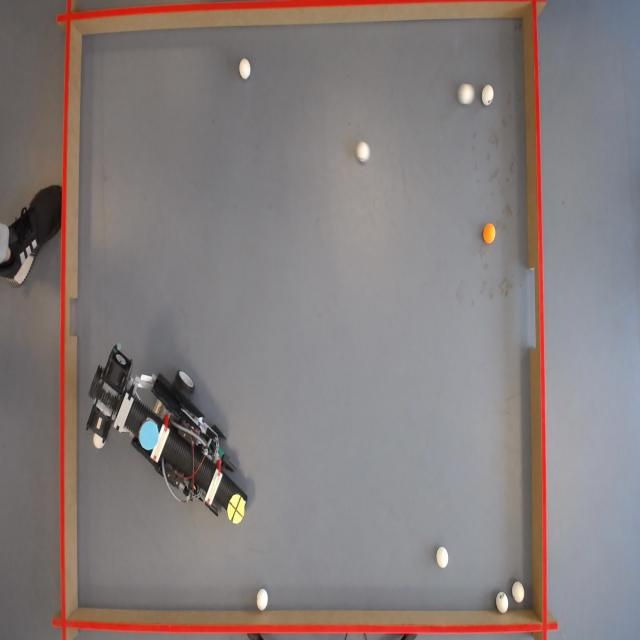orange: (484, 224, 498, 246)
robot: (93, 351, 256, 524)
robot-front: (229, 492, 247, 524)
robot-rear: (139, 419, 159, 452)
white: (437, 546, 451, 570), (255, 589, 269, 612), (459, 85, 474, 106), (239, 58, 253, 80), (496, 593, 509, 614), (514, 582, 526, 604), (357, 141, 370, 161), (483, 86, 495, 106)
